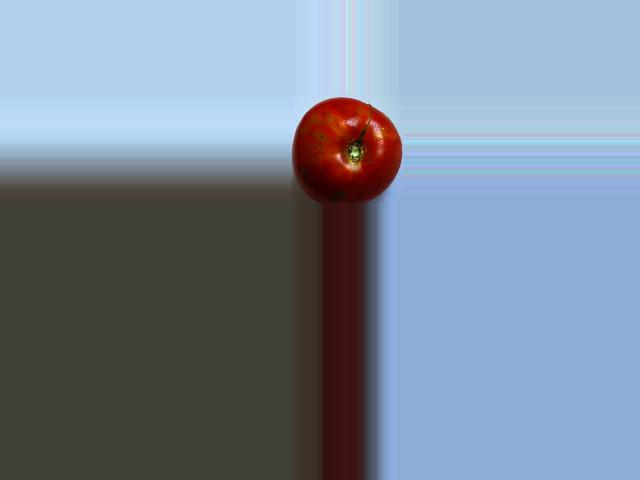tomato: (292, 98, 402, 204)
